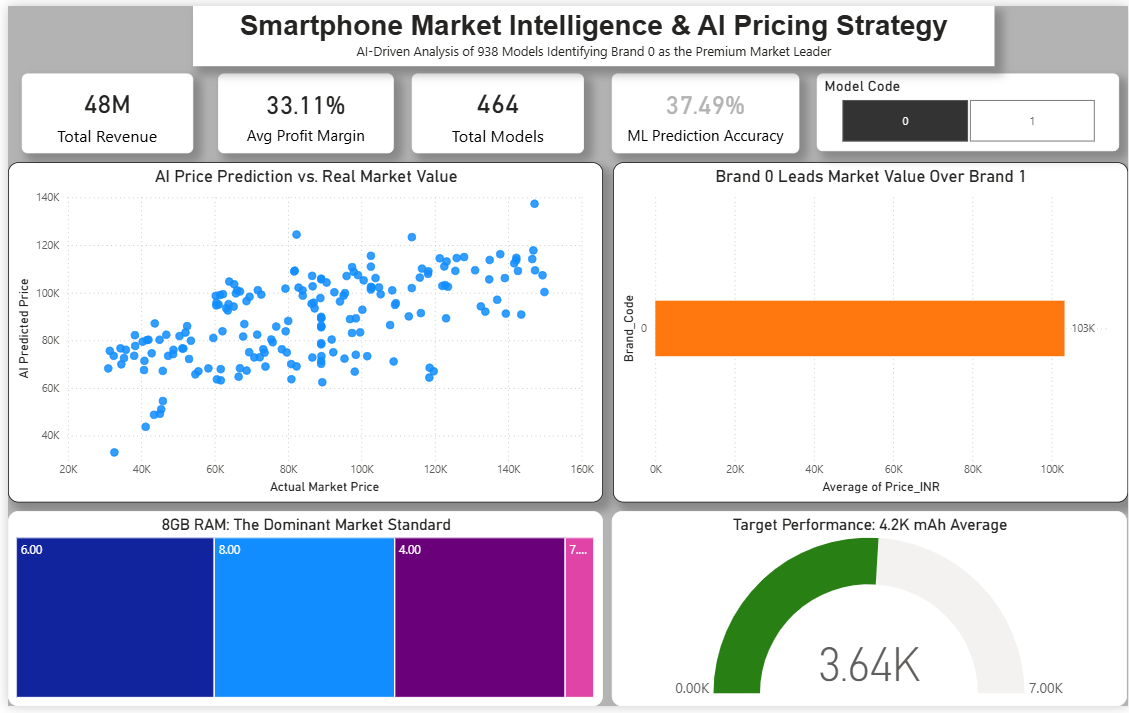

Layout of this report page (visuals, bound fields, positions):
{"tool":"powerbi","page":{"name":"Page 1","canvas":[1280,800],"ordinal":0},"visuals":[{"type":"card","title":"Total Revenue","fields":{"Values":["Sum(model_ready_data.Price_INR)"]},"box":[15.9,76.7,195.8,91.3],"z":0},{"type":"card","fields":{"Values":["Avg(model_ready_data.Profit_Margin)"]},"box":[239.4,76.7,201.1,91.3],"z":1000},{"type":"card","title":"Total Models","fields":{"Values":["model_ready_data.Total Models"]},"box":[461.6,76.7,197.1,91.3],"z":2000},{"type":"card","fields":{"Values":["model_ready_data.Model Accuracy"]},"box":[690.5,76.7,214.3,91.3],"z":3000},{"type":"scatterChart","title":"AI Price Prediction vs. Real Market Value","fields":{"X":["model_results_for_dashboard.Actual_Price"],"Y":["model_results_for_dashboard.Predicted_Price"]},"box":[0,178.6,679.9,388.9],"z":4000},{"type":"clusteredBarChart","title":"Brand 0 Leads Market Value Over Brand 1","fields":{"Category":["model_ready_data.Brand_Code"],"Y":["Avg(model_ready_data.Price_INR)"]},"box":[691.8,178.6,588.6,388.9],"z":5000},{"type":"slicer","title":"Model Code","fields":{"Values":["model_ready_data.Brand_Code"]},"box":[923.6,77,345.8,89.2],"z":6000},{"type":"treemap","title":"8GB RAM: The Dominant Market Standard","fields":{"Group":["model_ready_data.RAM_GB"],"Values":["CountNonNull(model_ready_data.Price_INR)"]},"box":[0,576.7,679.9,223.5],"z":7000},{"type":"gauge","title":"Target Performance: 4.2K mAh Average","fields":{"Y":["Avg(model_ready_data.Battery_mAh)"]},"box":[690.5,576.7,588.6,223.5],"z":8000},{"type":"textbox","box":[211.4,0,916.3,68.4],"z":9000}]}

Visuals, with their boxes in screenshot pixels (x1, y1, x2, y2), scaled from the page's 1280x800 canvas onto the 1129x713 screenshot:
"Total Revenue" card: 14:68:187:150
card - Avg(model_ready_data.Profit_Margin): 211:68:389:150
"Total Models" card: 407:68:581:150
card - model_ready_data.Model Accuracy: 609:68:798:150
"AI Price Prediction vs. Real Market Value" scatterChart: 0:159:600:506
"Brand 0 Leads Market Value Over Brand 1" clusteredBarChart: 610:159:1128:506
"Model Code" slicer: 815:69:1120:148
"8GB RAM: The Dominant Market Standard" treemap: 0:514:600:712
"Target Performance: 4.2K mAh Average" gauge: 609:514:1128:712
textbox: 186:0:995:61
